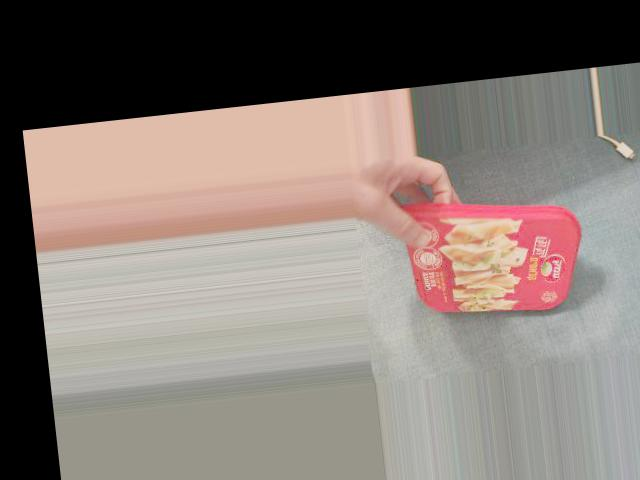cheese: (407, 193, 580, 327)
